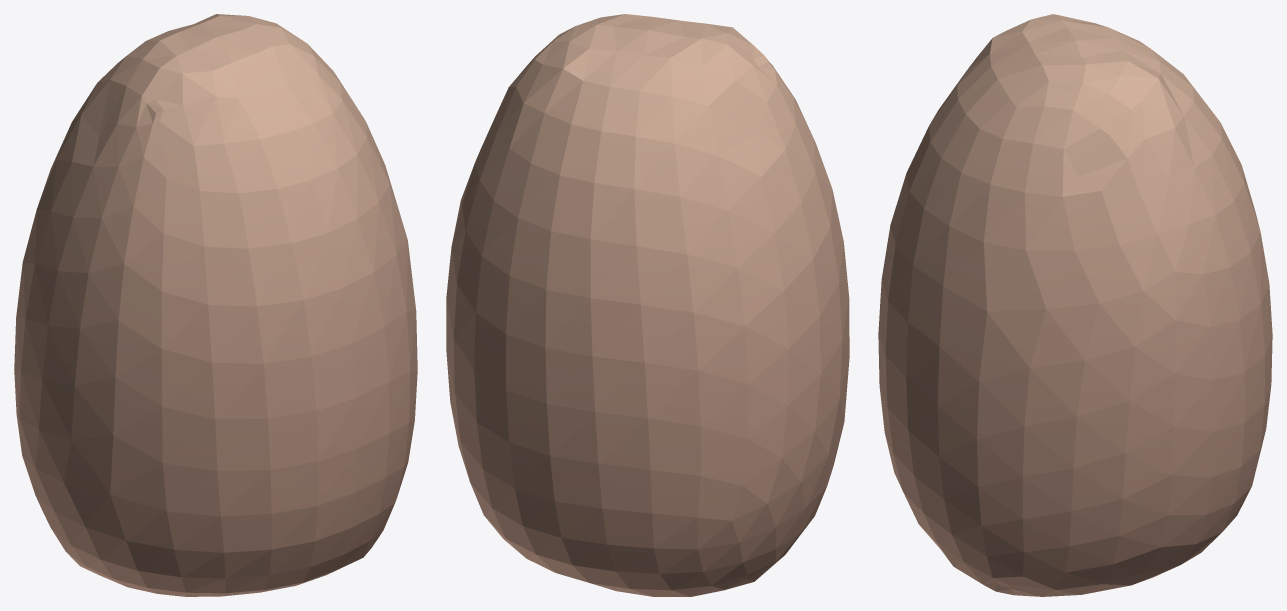
The model's file is egg.glb.
3 renders of one model, left to right at view 1: azimuth 30°, elevation 25°; view 2: azimuth 150°, elevation 25°; view 3: azimuth 270°, elevation 25°, orthographic. The views are drawn at different scales.
Size of the model in its own units: 0.3436 by 0.5001 by 0.3454.
